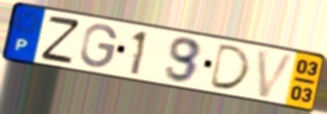1: (129, 29, 150, 76)
9: (162, 36, 205, 85)
D: (207, 43, 253, 93)
G: (78, 23, 120, 69)
V: (255, 47, 299, 100)
Z: (38, 14, 82, 65)
